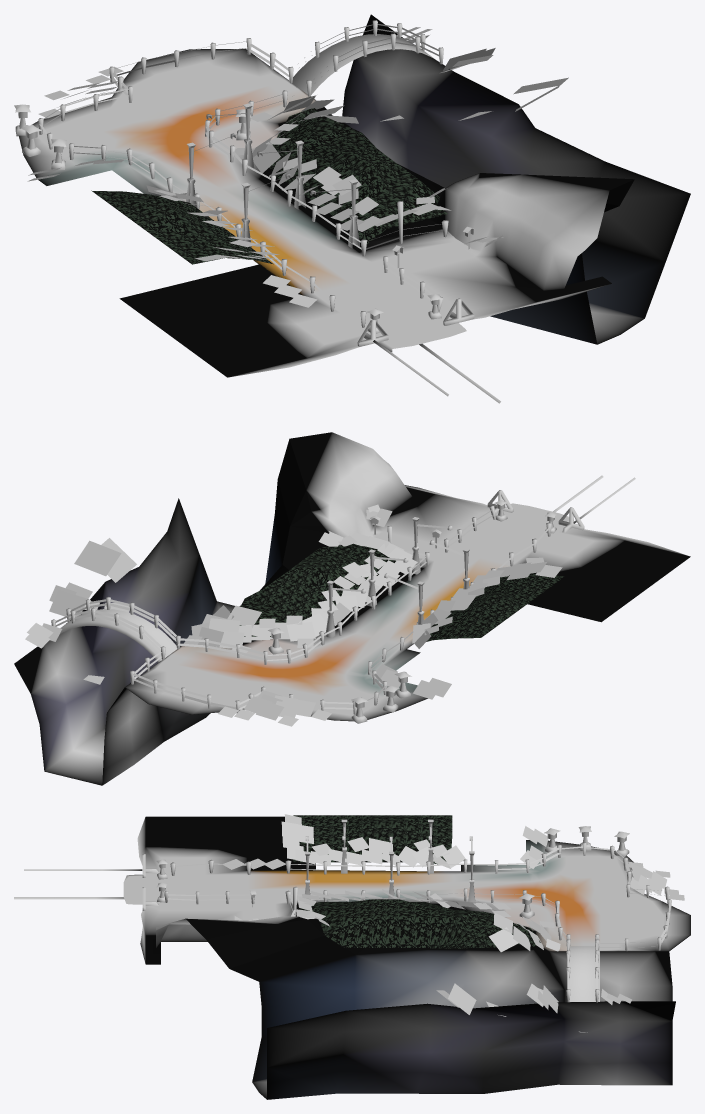
Rendered from zone03a.FBX.
The picture shows the model from 3 angles, top to bottom: view 1: azimuth 30°, elevation 25°; view 2: azimuth 150°, elevation 25°; view 3: azimuth 270°, elevation 25°; orthographic projection. The views are drawn at different scales.
Visible parts, largest first — view 1: Object11, Box618, Object03; view 2: Object11, Object03, Box618; view 3: Object11, Box618, Object03.
Part boxes in pixels (x1,y1,x2,y2): Object11: (14,14,690,403); Box618: (91,108,447,264); Object03: (27,27,568,307); Object11: (14,432,690,785); Object03: (25,504,562,726); Box618: (239,543,564,641); Object11: (14,816,690,1099); Box618: (293,815,540,948); Object03: (223,814,684,1032).
Size of the model in its own units: 5000 by 1702 by 6877.
